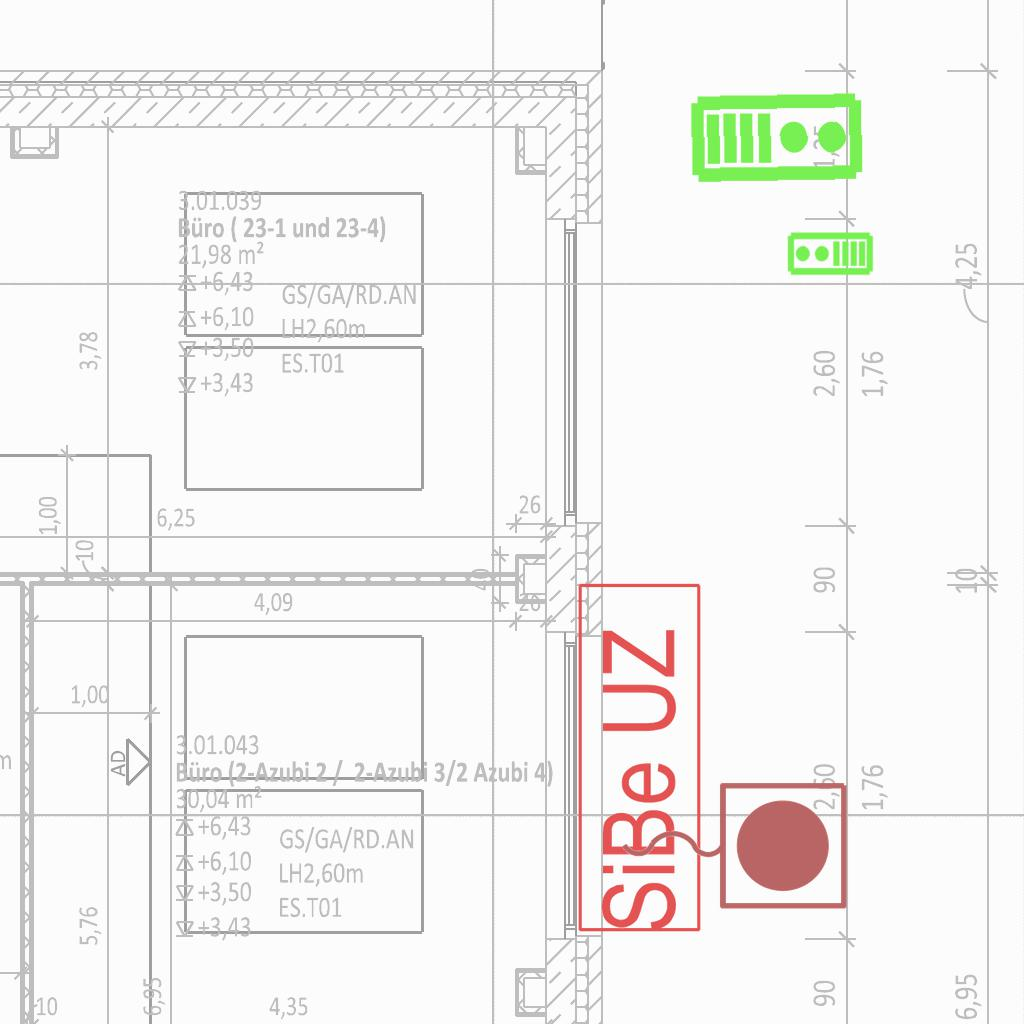Gegensprechanlage_mit_Video: (688, 86, 867, 186), (786, 231, 874, 278)
Zentrale_Sicherheitsbeleuchtung: (575, 578, 705, 935)
Zugtaster: (611, 772, 855, 916)
